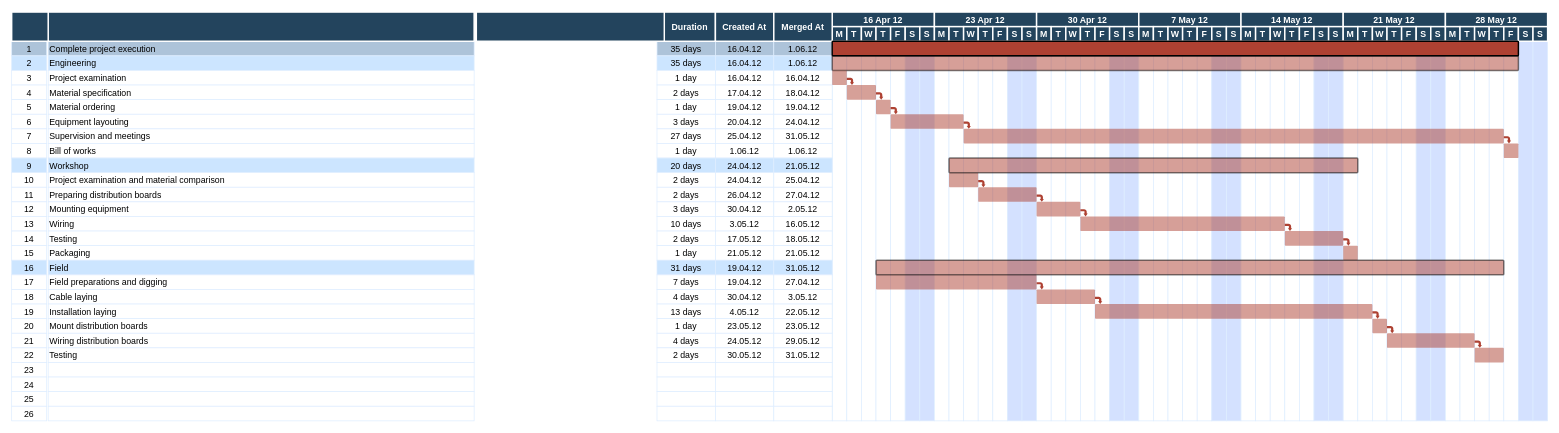
The diagram is 1559 pixels wide and 433 high, and some of its shapes have lost their labels. Here are the shapes that lost their labels. From the top down, the box of each, then its label:
(11, 11, 49, 42): PR #
(47, 11, 474, 42): Task Name
(475, 11, 666, 42): Contributors
